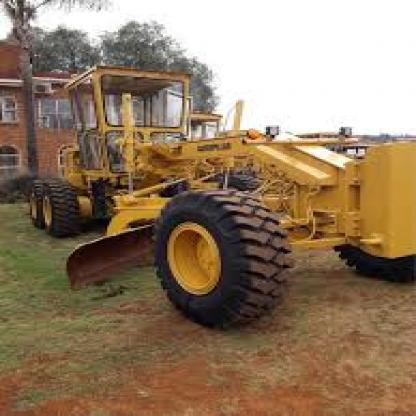bull_dozer/loader/grader: (21, 47, 414, 334)
